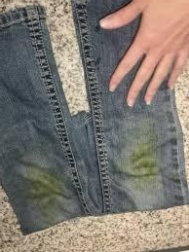earth: (129, 126, 159, 187), (29, 171, 65, 212)
